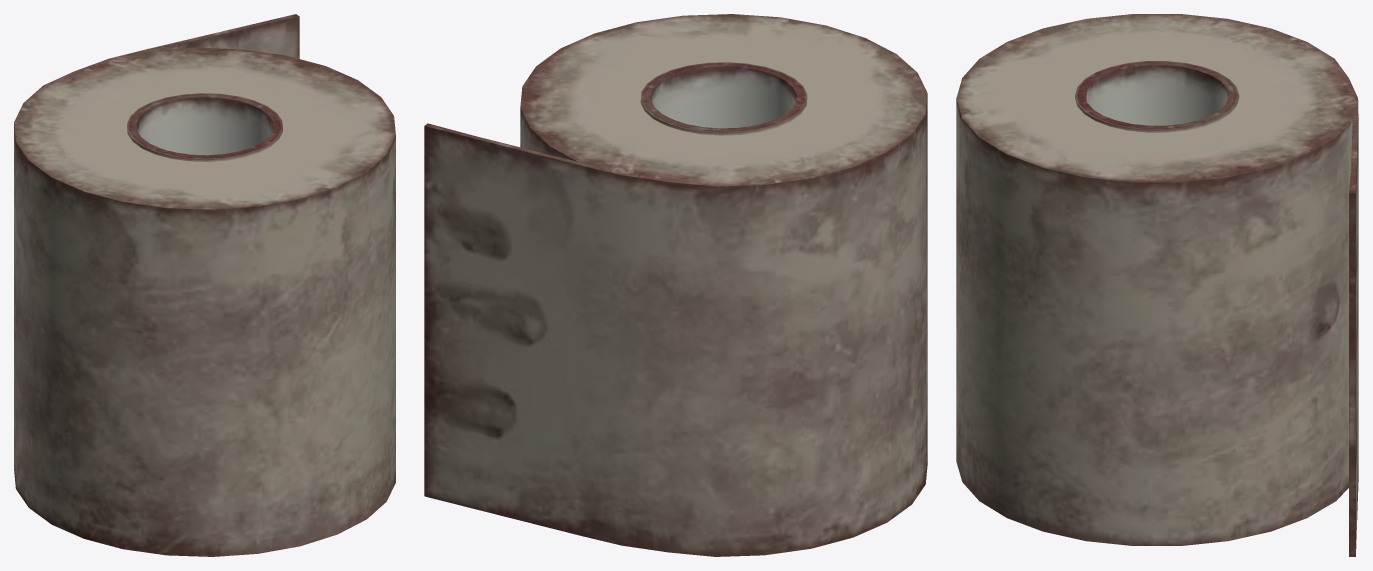
The model's file is bandages.glb.
The picture shows the model from 3 angles, left to right: view 1: azimuth 30°, elevation 25°; view 2: azimuth 150°, elevation 25°; view 3: azimuth 270°, elevation 25°; orthographic projection. The views are drawn at different scales.
Visible parts, largest first — view 1: Object_4; view 2: Object_4; view 3: Object_4.
Boxes of the visible parts, bbox=[...] form: Object_4: bbox=[14, 14, 395, 556]; Object_4: bbox=[424, 14, 927, 556]; Object_4: bbox=[956, 14, 1358, 556].
Bounding box in the file's own units: 0.1261 × 0.121 × 0.1195.
1 material, 1 textured.
